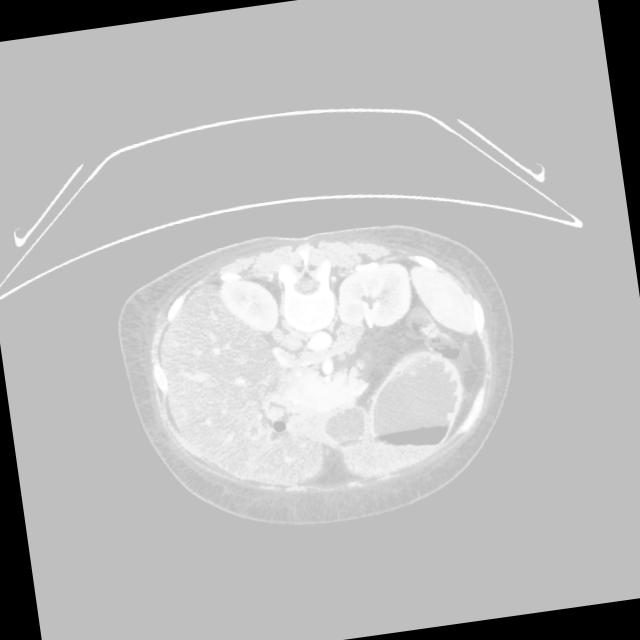NORMAL: (89, 225, 541, 529)
